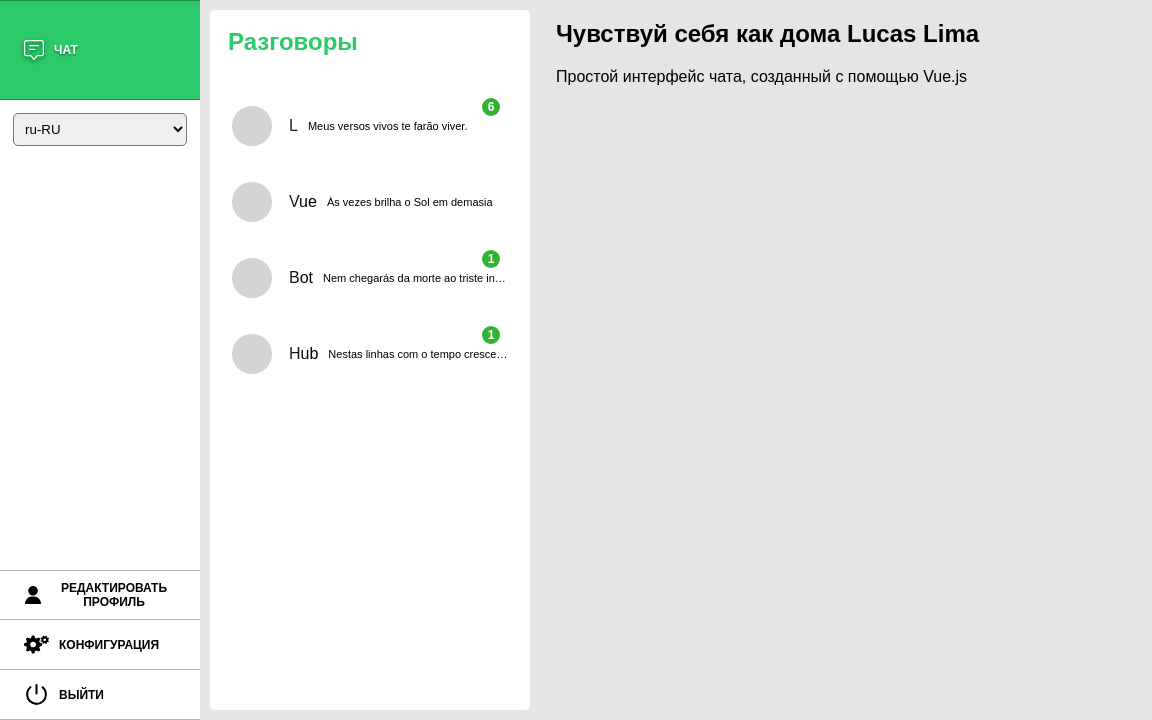
Test case: Validar Textos menu e Bem-vindo › Bienvenido
Step 1. Select "es-ES" in the dropdown with class "languages" → (100, 129), box [13,113,186,145]
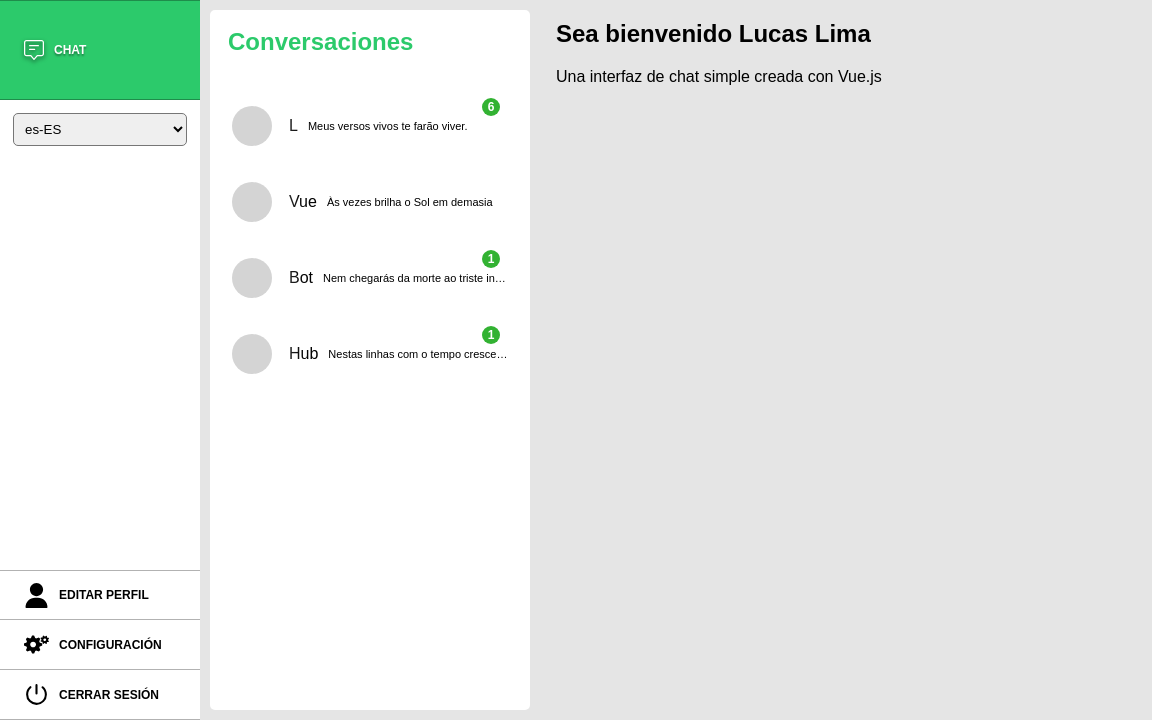
expect the button "CHAT" is shown: met, box [0,0,200,100]
expect the button "Editar perfil" is shown: met, box [0,570,200,620]
expect the button "Configuración" is shown: met, box [0,620,200,670]
